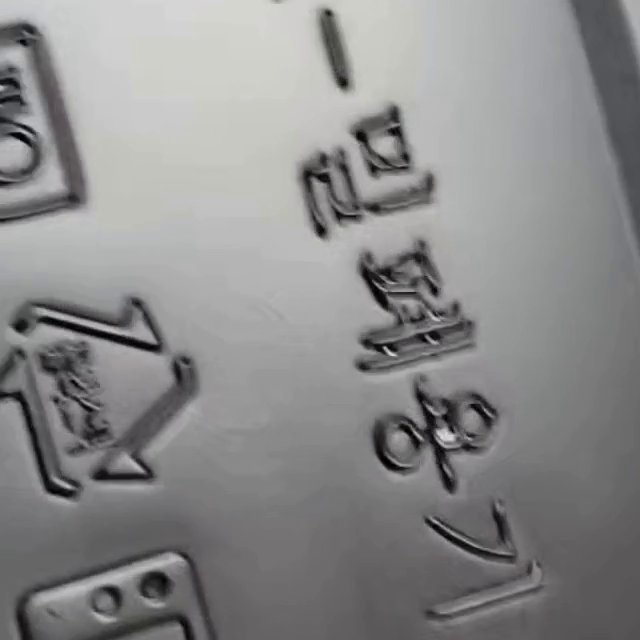Plastic: (0, 295, 199, 498)
